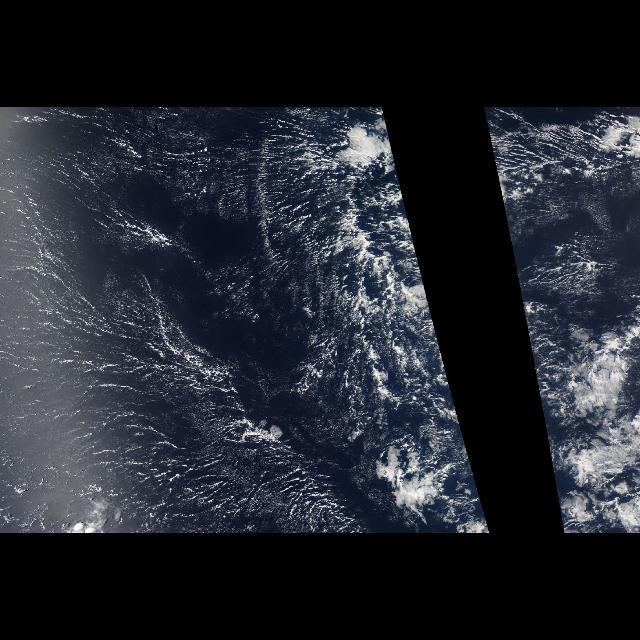Sugar: (6, 115, 402, 532)
